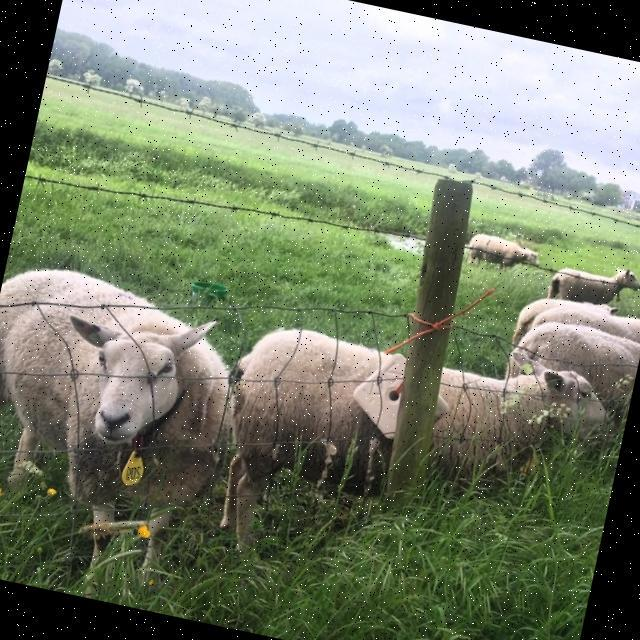sheep: (0, 266, 229, 556), (221, 327, 604, 494), (508, 321, 640, 408), (512, 296, 616, 343), (533, 305, 640, 342), (548, 266, 640, 304)
